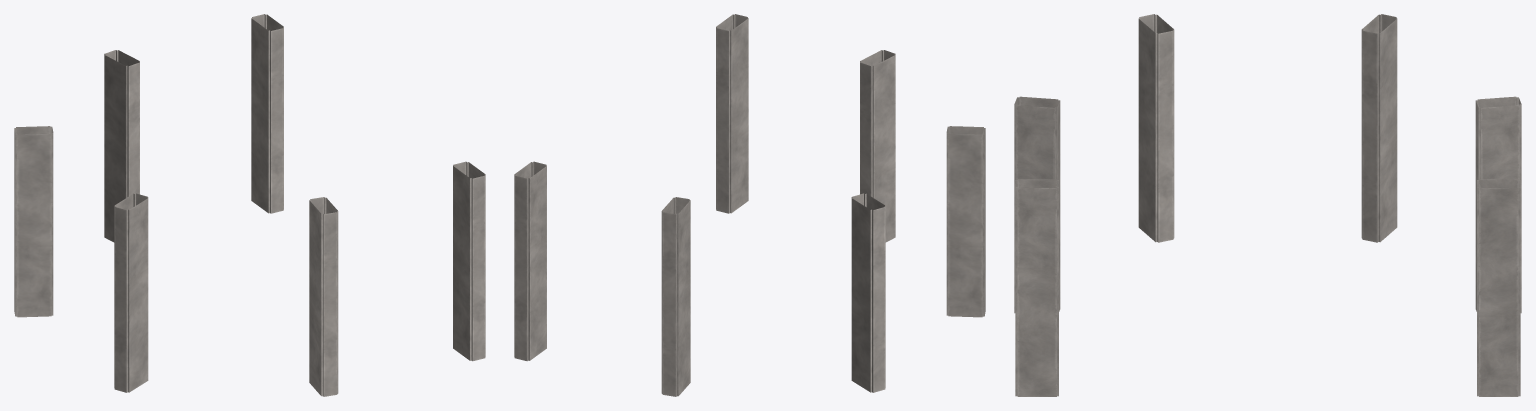
Rendered from Ambulatory_Inner_Post_6m.fbx.
3 renders of one model, left to right at view 1: azimuth 30°, elevation 25°; view 2: azimuth 150°, elevation 25°; view 3: azimuth 270°, elevation 25°, orthographic. The views are drawn at different scales.
Parts seen in each view (by area): view 1: Ambulatory_Inner_Post_6m; view 2: Ambulatory_Inner_Post_6m; view 3: Ambulatory_Inner_Post_6m.
Part boxes in pixels (x1=…): Ambulatory_Inner_Post_6m: x1=14, y1=14, x2=485, y2=396; Ambulatory_Inner_Post_6m: x1=514, y1=14, x2=985, y2=396; Ambulatory_Inner_Post_6m: x1=1014, y1=14, x2=1521, y2=396.
Size of the model in its own units: 10.7 by 13.19 by 6.
